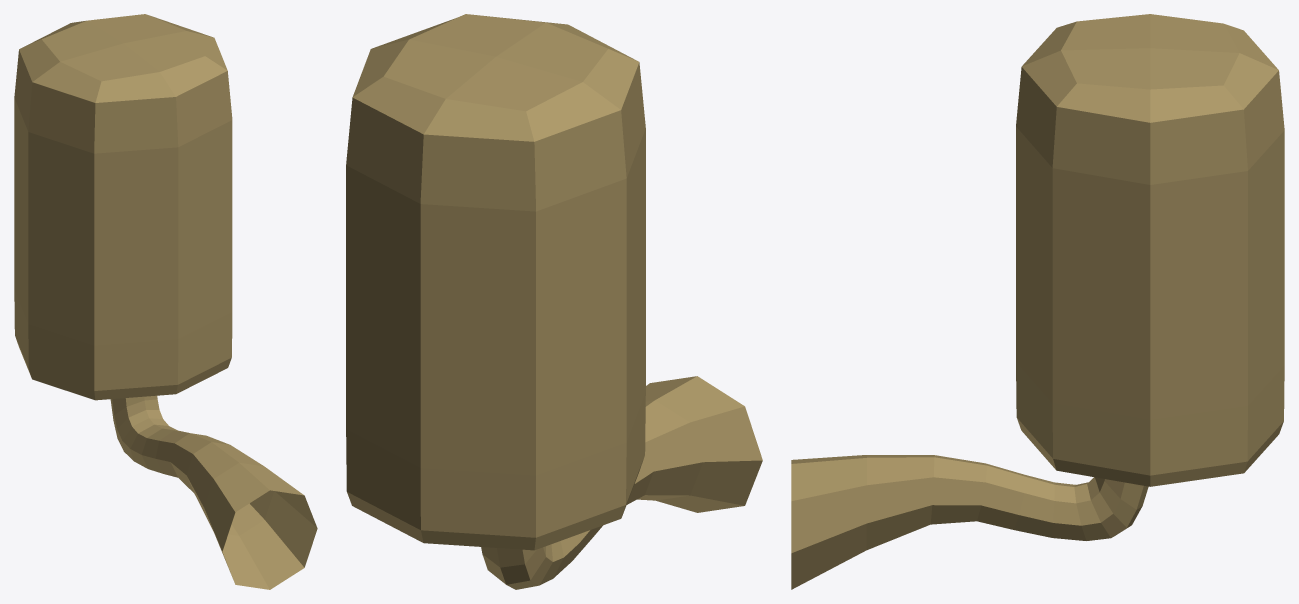
The model's file is lampa perete.fbx.
3 renders of one model, left to right at view 1: azimuth 30°, elevation 25°; view 2: azimuth 150°, elevation 25°; view 3: azimuth 270°, elevation 25°, orthographic. The views are drawn at different scales.
Parts seen in each view (by area): view 1: Cube.063; view 2: Cube.063; view 3: Cube.063.
Boxes of the visible parts, x1,y1,x2,y2 form: Cube.063: [14, 14, 317, 589]; Cube.063: [346, 14, 762, 589]; Cube.063: [791, 14, 1284, 589].
Size of the model in its own units: 24.76 by 54.65 by 45.45.
